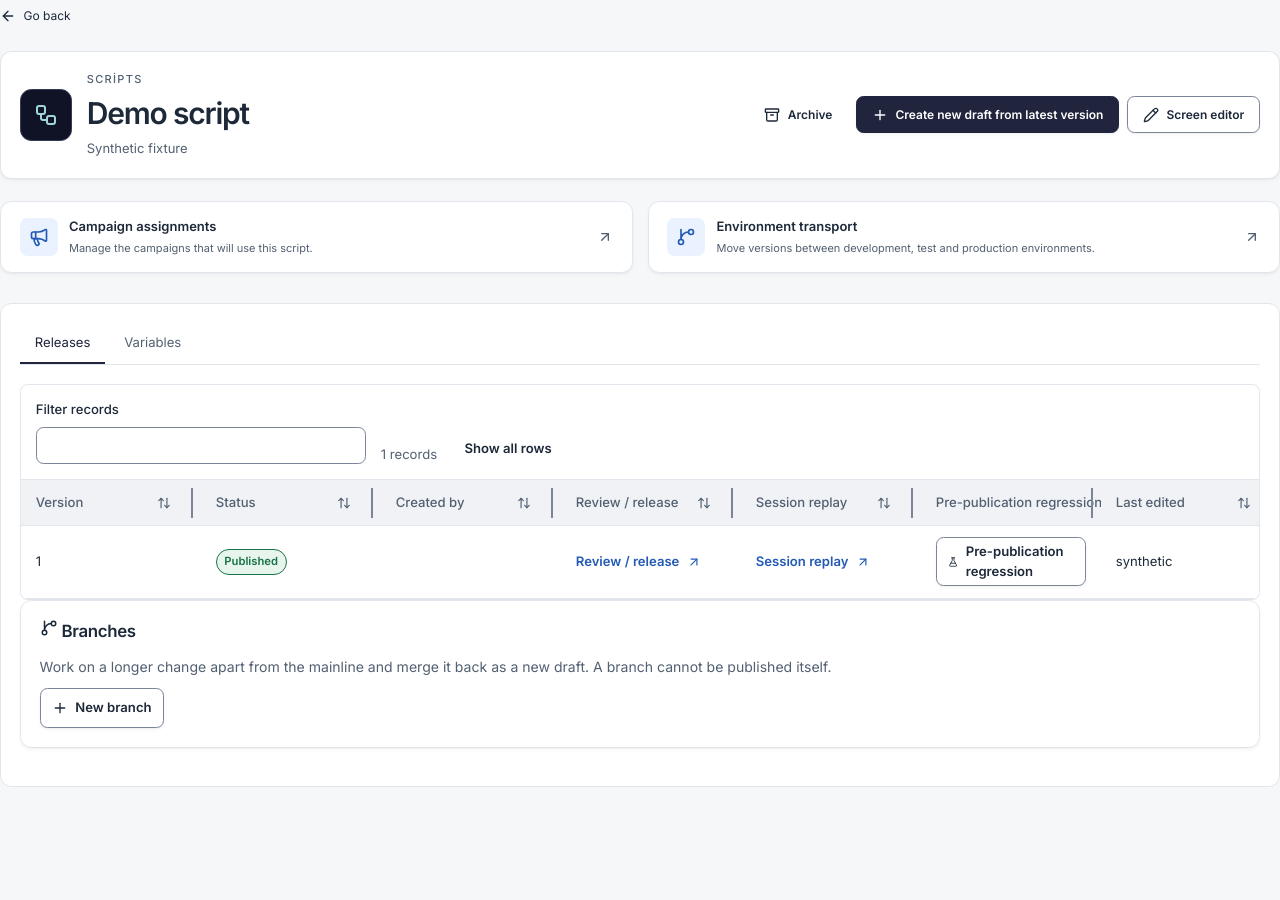
Test case: archives a script after confirmation and restores it as a draft
Expected: the heading "Demo script" is shown, [87, 94, 249, 130]
Click the button "Archive" at (798, 115), box [748, 96, 848, 133]
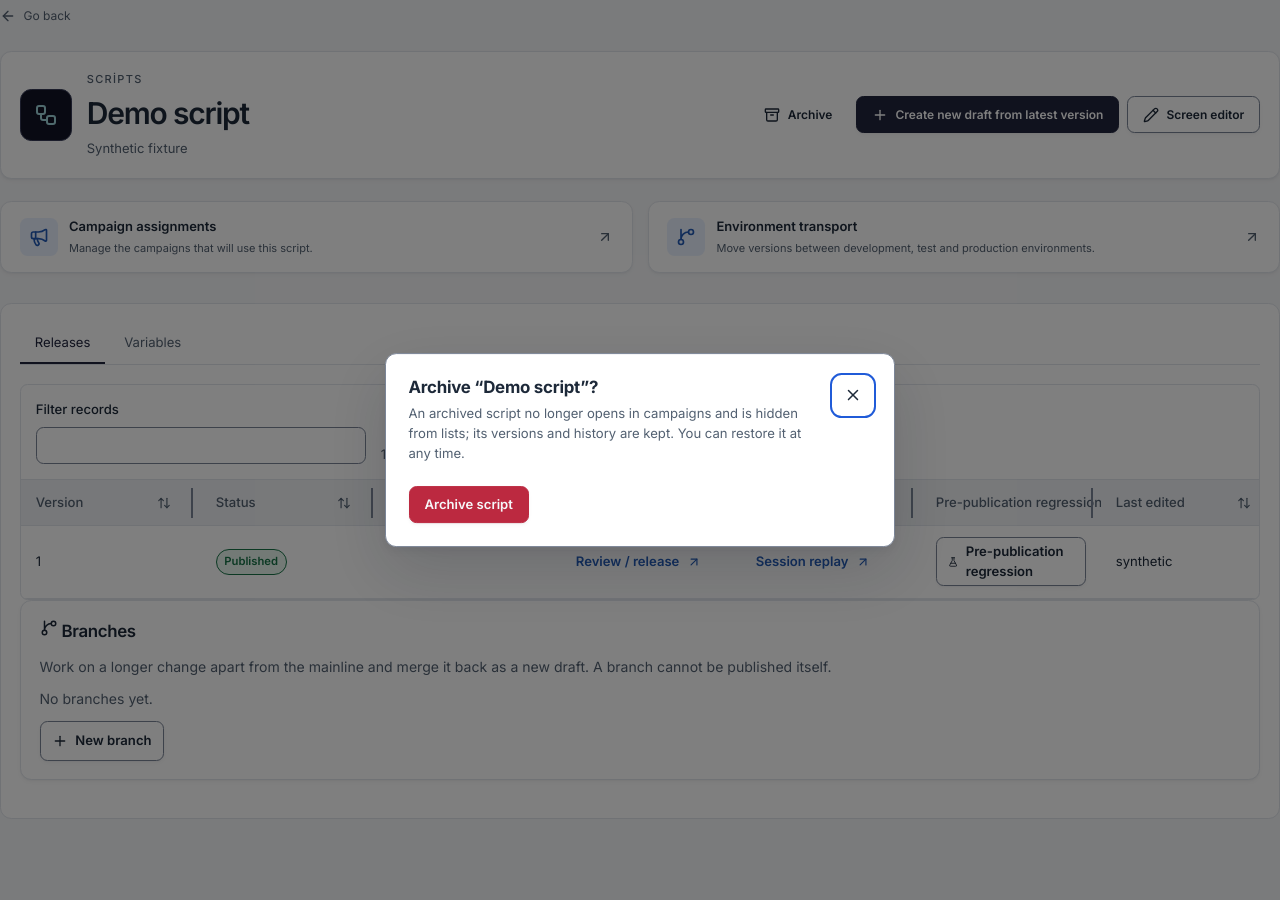
Click the button "Archive script" at (469, 505), box [408, 486, 529, 523]
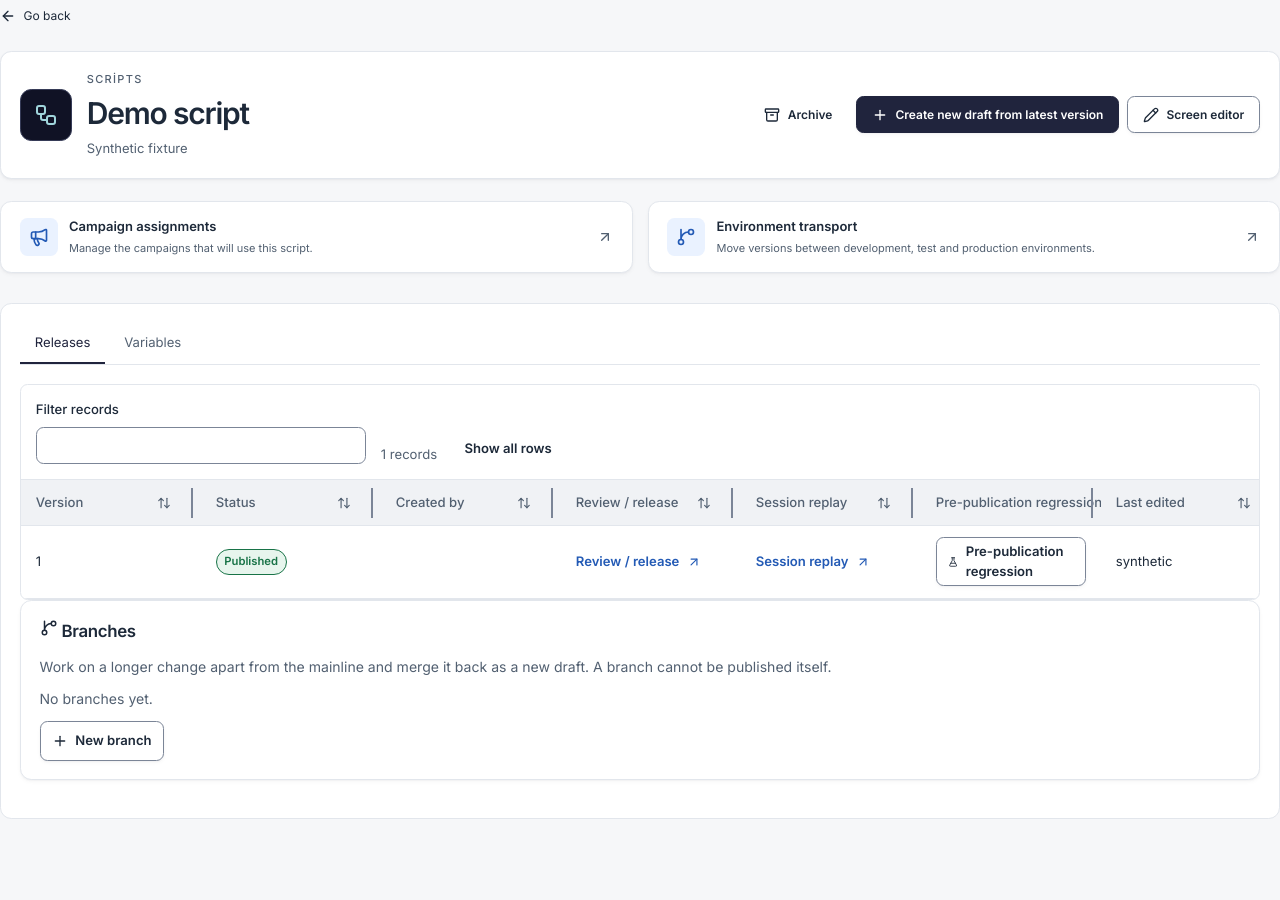
Expected: the dialog is gone
